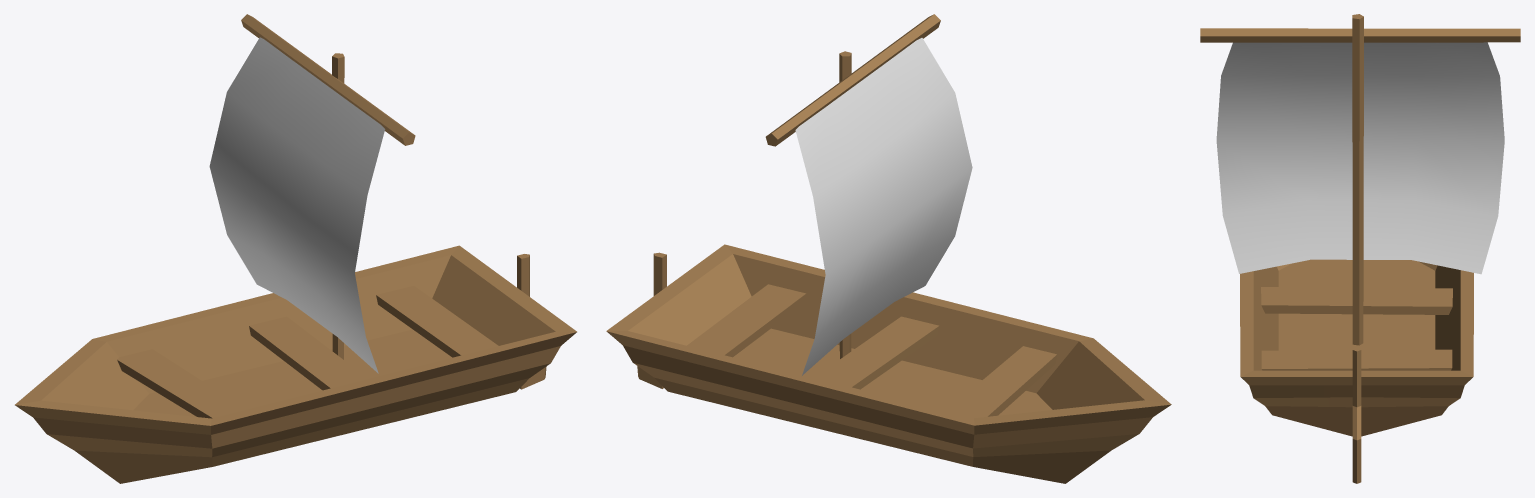
File: boat01_blender.fbx
3 views of the same model, side by side, from view 1: azimuth 30°, elevation 25°; view 2: azimuth 150°, elevation 25°; view 3: azimuth 270°, elevation 25° (orthographic).
Parts seen in each view (by area): view 1: boat_01; view 2: boat_01; view 3: boat_01.
Part boxes in pixels (bbox=[...]): boat_01: bbox=[15, 14, 576, 483]; boat_01: bbox=[606, 14, 1171, 483]; boat_01: bbox=[1200, 14, 1520, 483].
Size of the model in its own units: 483 by 325 by 254.
